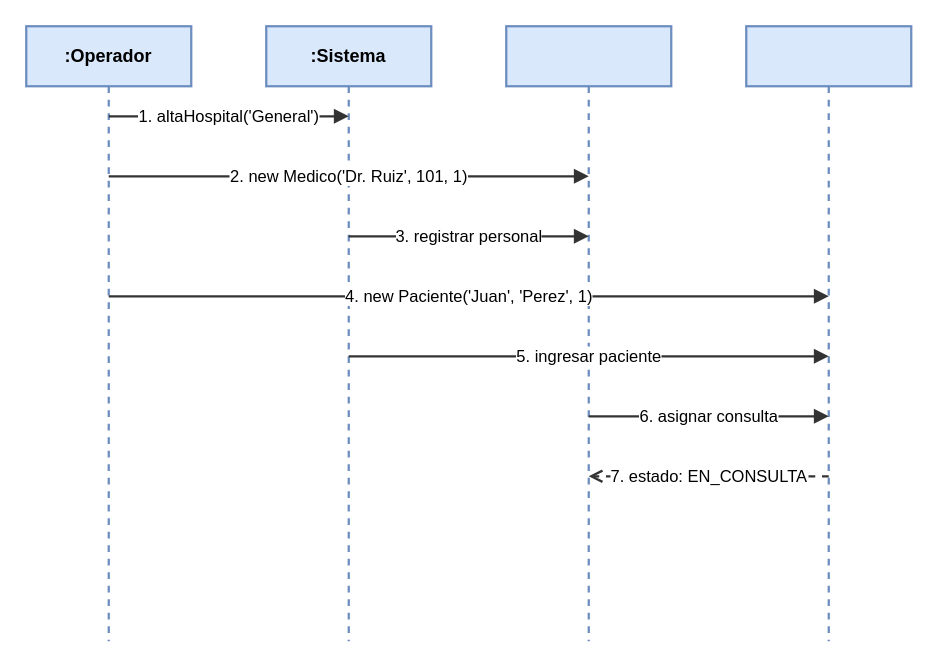
The diagram is 939 pixels wide and 669 high, and some of its shapes have lost their labels. The shapes that lost their labels are listed below. From the top down, each one's box as (x1, y1, x2, y2) in pixels, then its label:
(504, 24, 672, 642): :Medico
(744, 24, 912, 642): :Paciente
